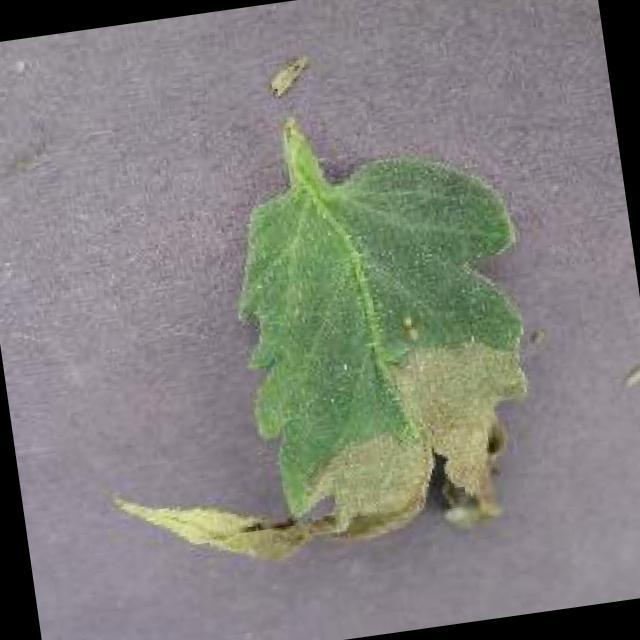Tomato late blight leaf: (67, 82, 560, 588)
